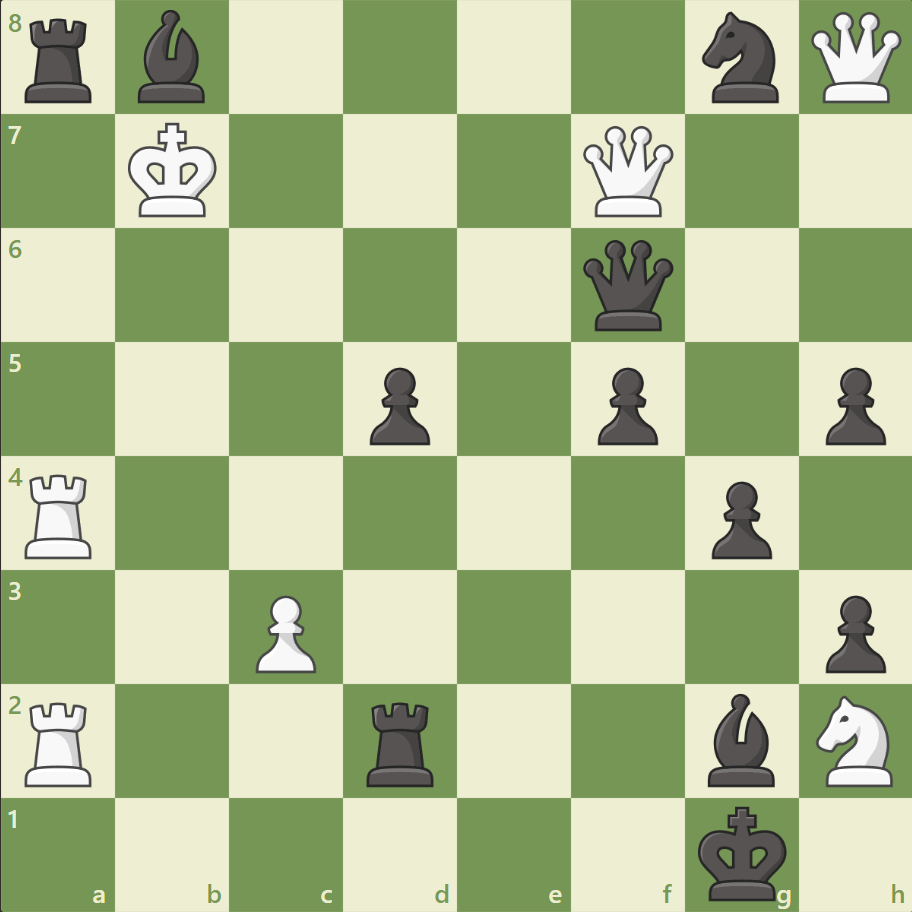K: (124, 117, 224, 225)
N: (806, 688, 903, 791)
P: (247, 586, 322, 677)
Q: (578, 122, 677, 222), (805, 9, 904, 108)
R: (19, 466, 102, 563), (19, 693, 102, 790)
b: (131, 6, 215, 109), (698, 687, 782, 790)
k: (692, 798, 792, 906)
n: (692, 7, 789, 110)
p: (701, 473, 776, 564), (361, 359, 435, 450), (588, 359, 662, 450), (815, 359, 889, 450), (815, 586, 889, 677)
q: (578, 236, 677, 335)
r: (19, 12, 102, 109), (360, 693, 442, 790)
